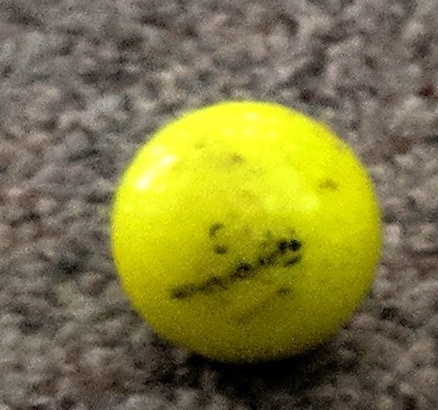ball: (113, 98, 389, 367)
